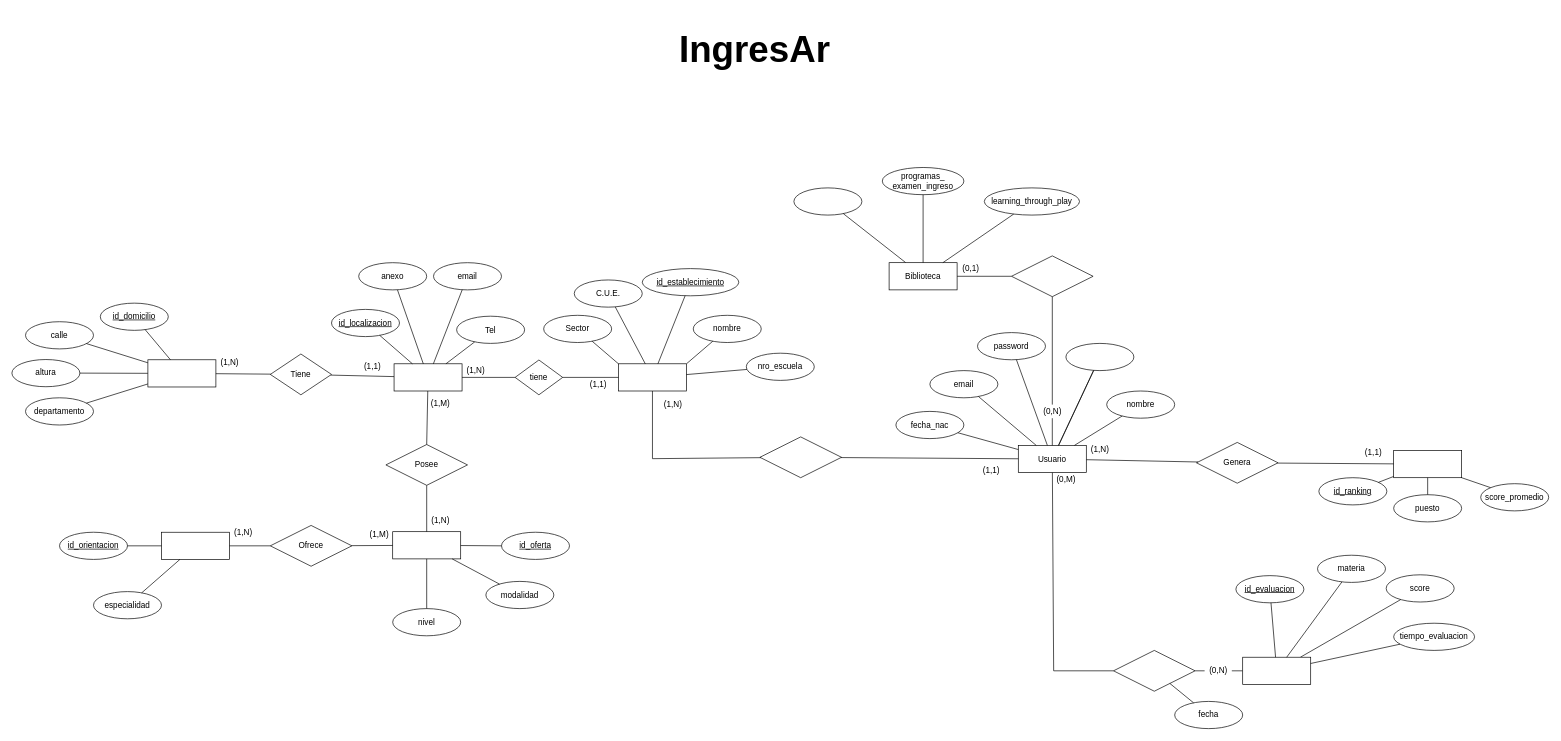
This 1561x741 diagram has some shape labels left out. The centre of each missing label's shape, as x and y in pixels:
"Domicilio" belongs at point (181, 373).
"Establecimiento" belongs at point (652, 377).
"Evaluación Modelo" belongs at point (1276, 670).
"id_documento" belongs at point (827, 201).
"id_usuario" belongs at point (1099, 357).
"Interactúa" belongs at point (1052, 276).
"Localización" belongs at point (427, 377).
"Oferta" belongs at point (426, 545).
"Orientacion" belongs at point (195, 545).
"Ranking" belongs at point (1427, 464).
"Toma" belongs at point (1154, 670).
"Visualiza" belongs at point (800, 457).
